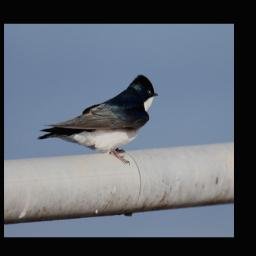Swallow: (37, 74, 158, 165)
